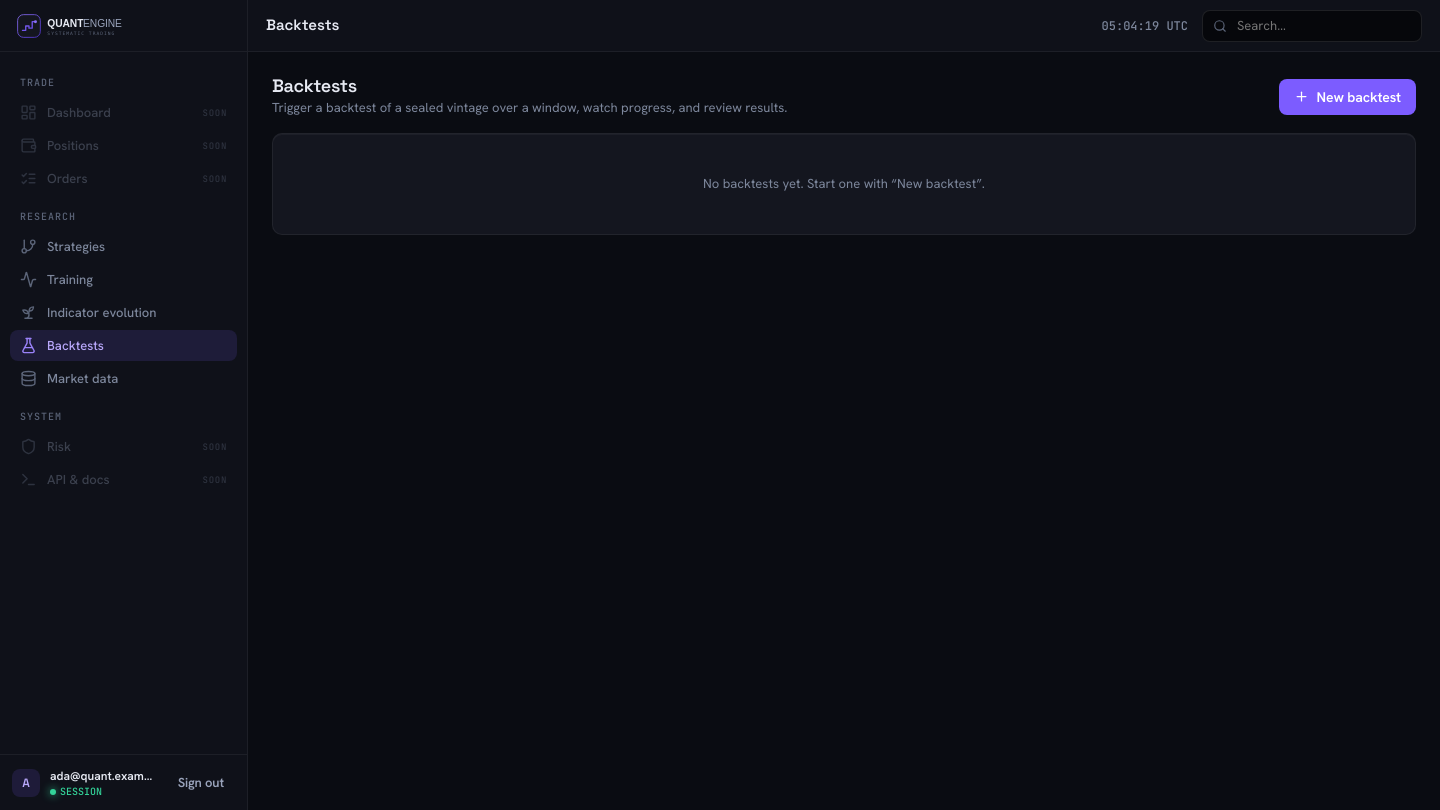
App seams (QE-424) › seam 4 — the Training→Backtest deep-link works end-to-end through App.tsx (router-less)
Click the button "Training" at (124, 280), box [10,264,237,295]
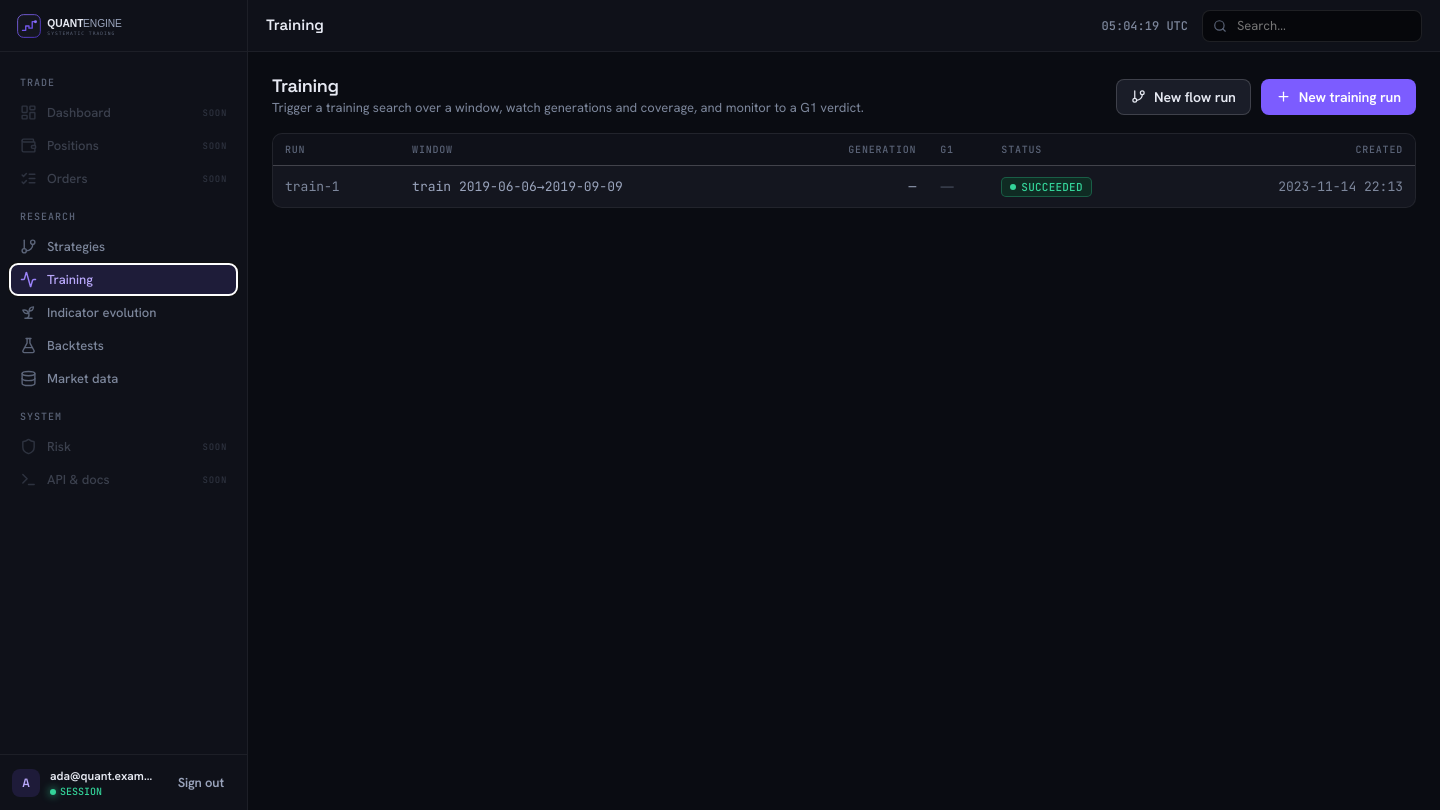
Open the succeeded training run from the list.
Click the button "train-1" at (312, 187), box [273,166,1415,207]
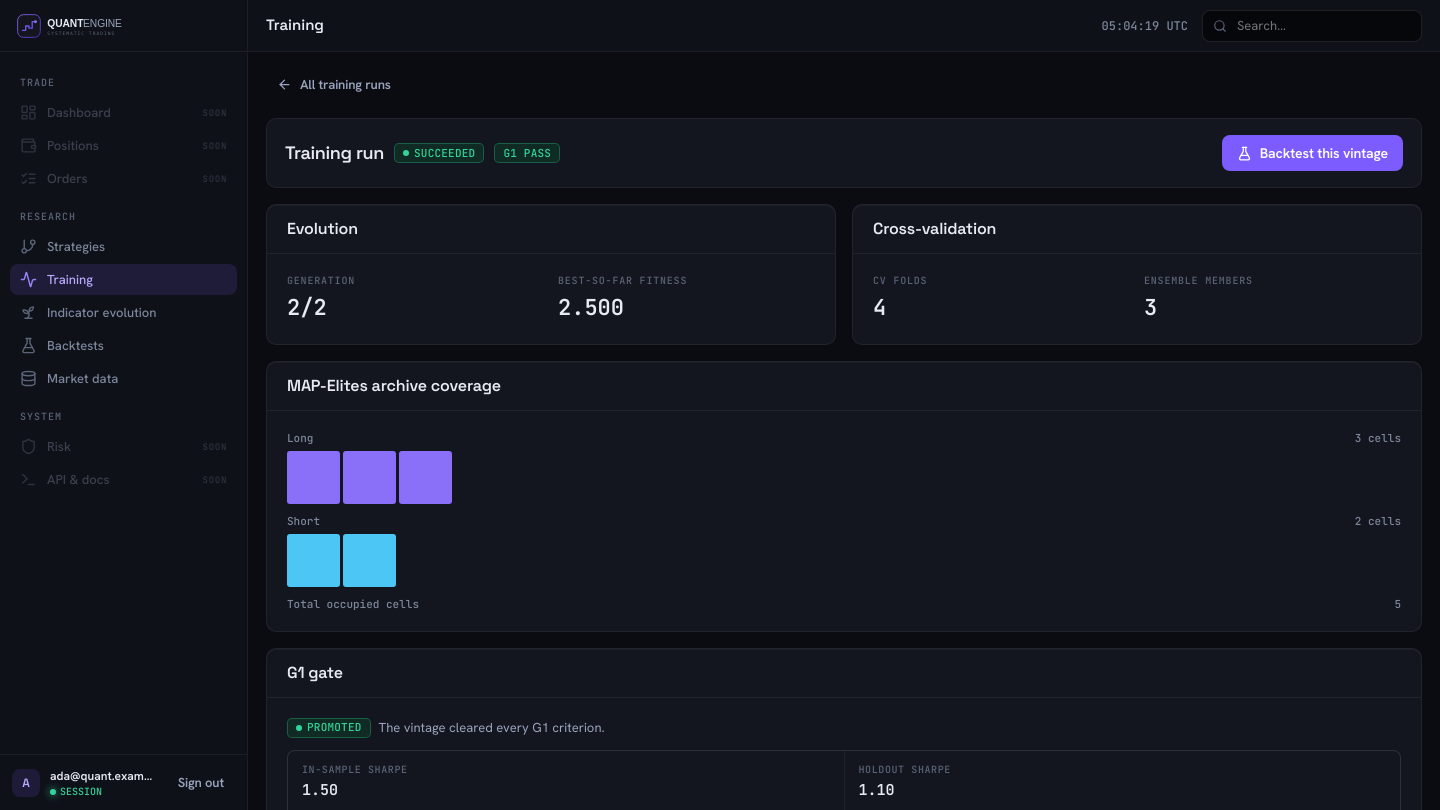
Click the button "Backtest this vintage" at (1312, 153), box [1222,135,1403,171]
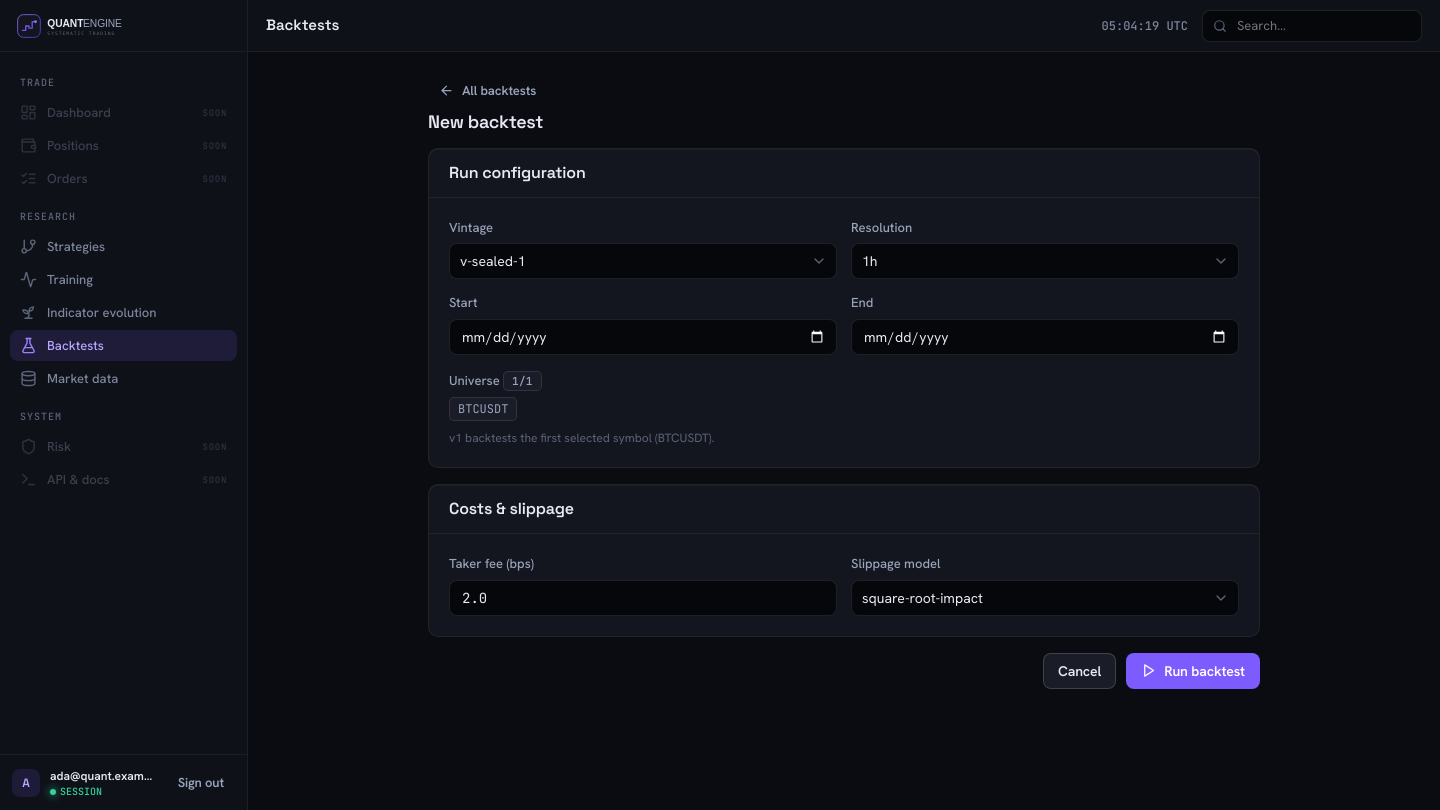
Result: the heading "New backtest" is shown at [428,110,543,133]
Result: the dropdown labelled "Vintage" shows "v-sealed-1" at [449,243,837,279]
